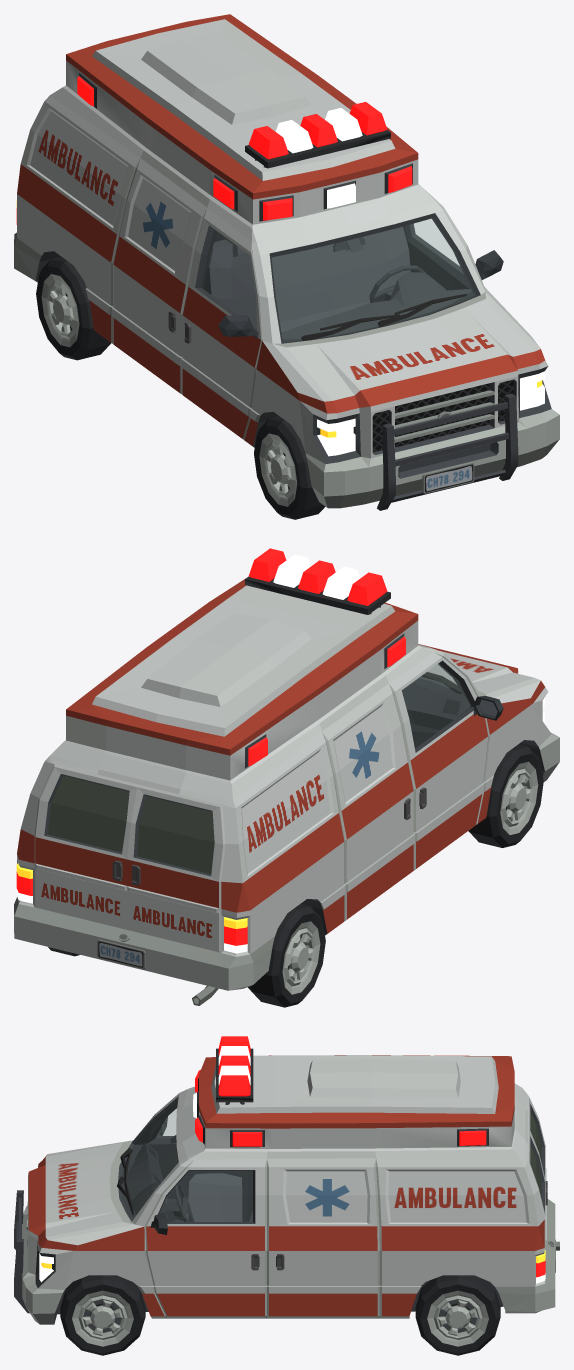
The model's file is SM_Veh_Car_Ambo_01.fbx.
3 views of the same model, one above another, from view 1: azimuth 30°, elevation 25°; view 2: azimuth 150°, elevation 25°; view 3: azimuth 270°, elevation 25° (orthographic). The views are drawn at different scales.
Parts seen in each view (by area): view 1: SM_Veh_Car_Ambo_01, SM_Veh_Car_Ambo_Glass, SM_Veh_Car_Ambo_Wheel_rr, SM_Veh_Car_Ambo_Wheel_fr, SM_Veh_Car_Ambo_Plates, SM_Veh_Car_Ambo_SteeringW; view 2: SM_Veh_Car_Ambo_01, SM_Veh_Car_Ambo_Door_l, SM_Veh_Car_Ambo_Door_r, SM_Veh_Car_Ambo_Wheel_rr, SM_Veh_Car_Ambo_Wheel_fr, SM_Veh_Car_Ambo_Door_r_Glass, SM_Veh_Car_Ambo_Door_l_Glass, SM_Veh_Car_Ambo_Glass, SM_Veh_Car_Ambo_Plates; view 3: SM_Veh_Car_Ambo_01, SM_Veh_Car_Ambo_Glass, SM_Veh_Car_Ambo_Wheel_rl, SM_Veh_Car_Ambo_Wheel_fl, SM_Veh_Car_Ambo_Door_l, SM_Veh_Car_Ambo_SteeringW, SM_Veh_Car_Ambo_Door_r.
Boxes of the visible parts, x1,y1,x2,y2 form: SM_Veh_Car_Ambo_01: (14, 14, 559, 510); SM_Veh_Car_Ambo_Glass: (202, 219, 475, 341); SM_Veh_Car_Ambo_Wheel_rr: (36, 256, 111, 360); SM_Veh_Car_Ambo_Wheel_fr: (254, 416, 325, 519); SM_Veh_Car_Ambo_Plates: (422, 462, 474, 493); SM_Veh_Car_Ambo_SteeringW: (369, 265, 425, 302); SM_Veh_Car_Ambo_01: (14, 548, 559, 1005); SM_Veh_Car_Ambo_Door_l: (35, 767, 137, 928); SM_Veh_Car_Ambo_Door_r: (127, 787, 223, 950); SM_Veh_Car_Ambo_Wheel_rr: (247, 904, 325, 1007); SM_Veh_Car_Ambo_Wheel_fr: (468, 744, 543, 847); SM_Veh_Car_Ambo_Door_r_Glass: (137, 796, 214, 874); SM_Veh_Car_Ambo_Door_l_Glass: (48, 776, 129, 852); SM_Veh_Car_Ambo_Glass: (402, 664, 470, 747); SM_Veh_Car_Ambo_Plates: (97, 939, 145, 969); SM_Veh_Car_Ambo_01: (14, 1036, 559, 1324); SM_Veh_Car_Ambo_Glass: (122, 1102, 252, 1221); SM_Veh_Car_Ambo_Wheel_rl: (415, 1275, 500, 1355); SM_Veh_Car_Ambo_Wheel_fl: (60, 1275, 145, 1355); SM_Veh_Car_Ambo_Door_l: (529, 1130, 547, 1243); SM_Veh_Car_Ambo_SteeringW: (172, 1183, 194, 1221); SM_Veh_Car_Ambo_Door_r: (529, 1097, 547, 1187).
Size of the model in its own units: 247 by 258 by 509.
